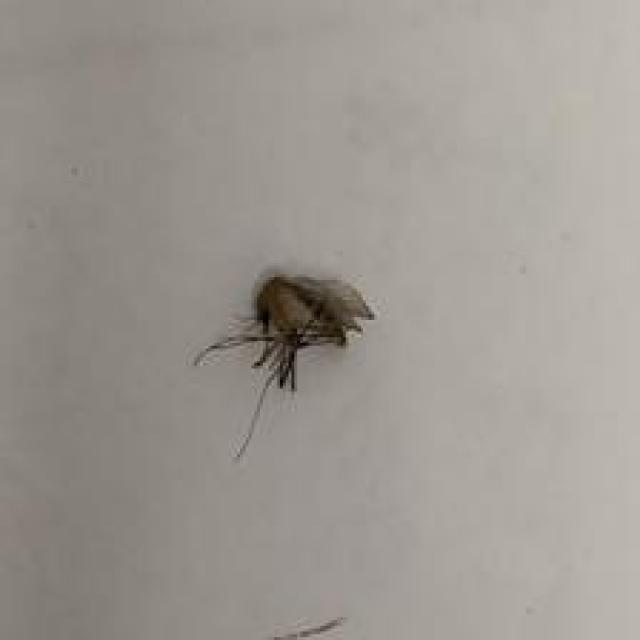Culex: (190, 270, 376, 461)
